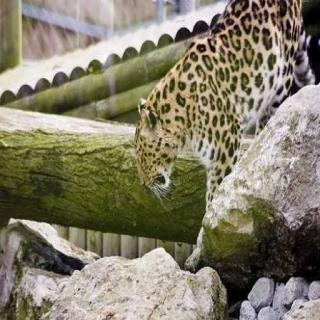Leopard: (109, 29, 320, 267)
